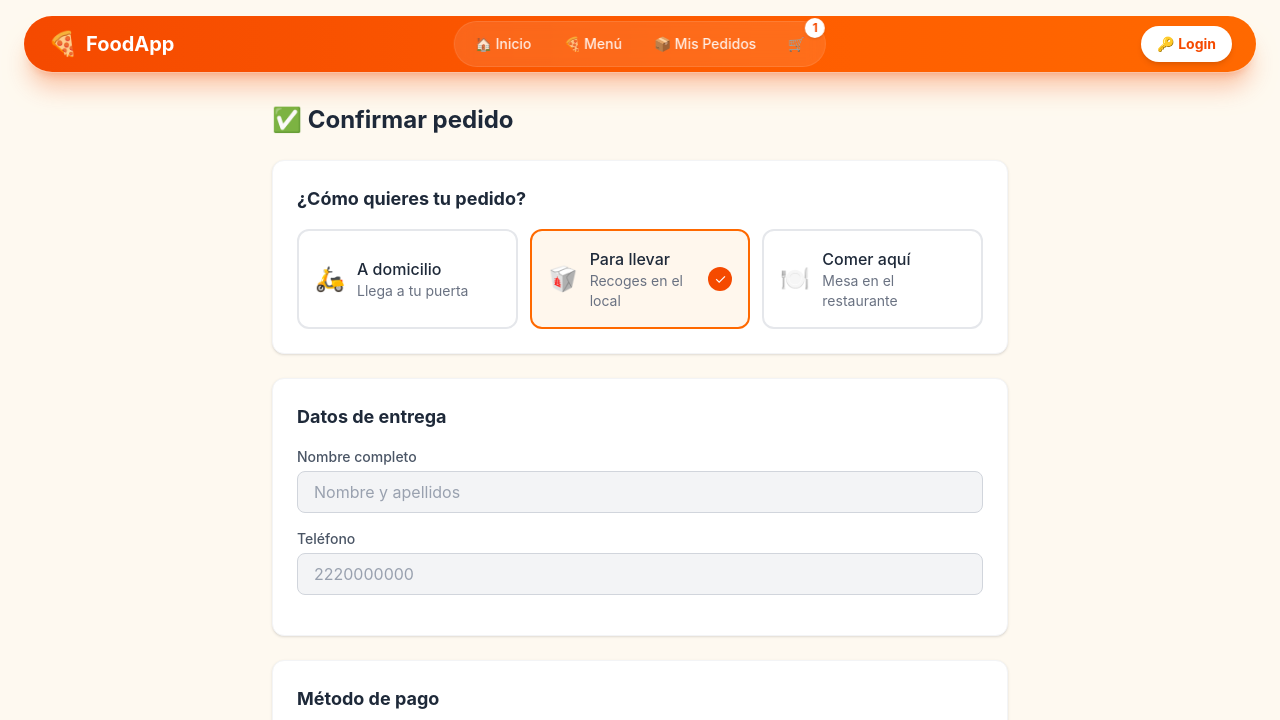
CheckoutPage - modo Comer aquí › en Comer aquí solo pide el nombre (sin teléfono, notas ni dirección)
Click the text "Comer aquí" at coordinates (866, 259), box [822,249,910,269]
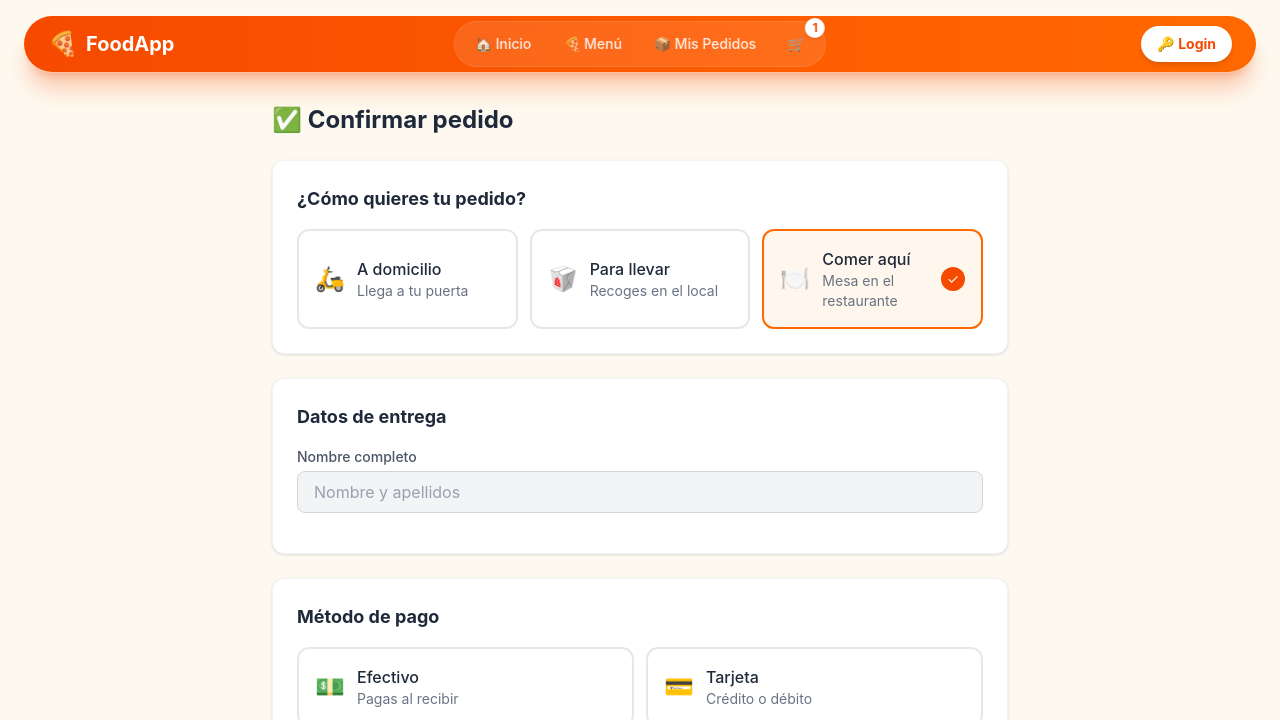
Expected: the field labelled "Nombre completo" is shown, [297,471,983,513]
Now the label labelled "Teléfono" is gone
